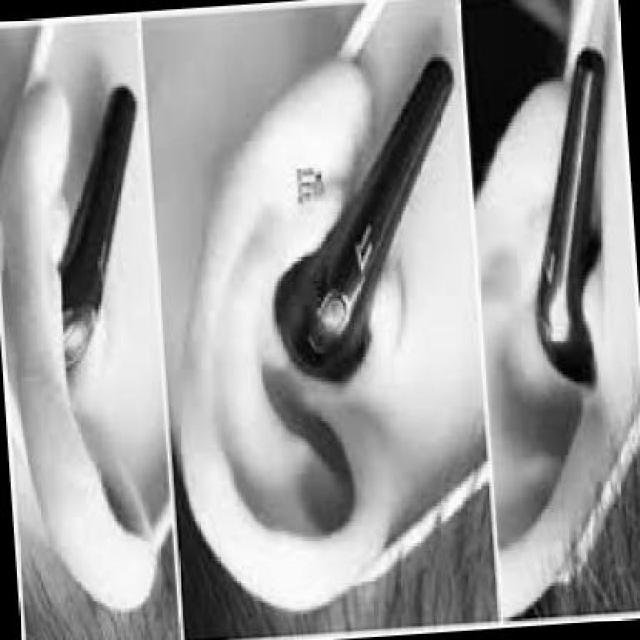earphone: (265, 37, 476, 404), (43, 42, 174, 384), (537, 41, 624, 390)
